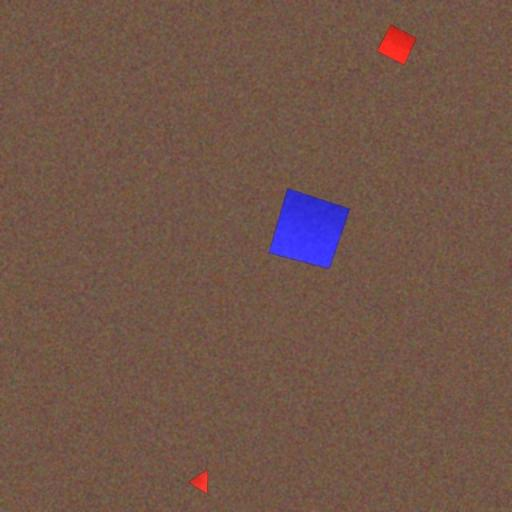BLUE_SQUARE: (268, 187, 350, 270)
RED_SQUARE: (377, 24, 417, 66)
